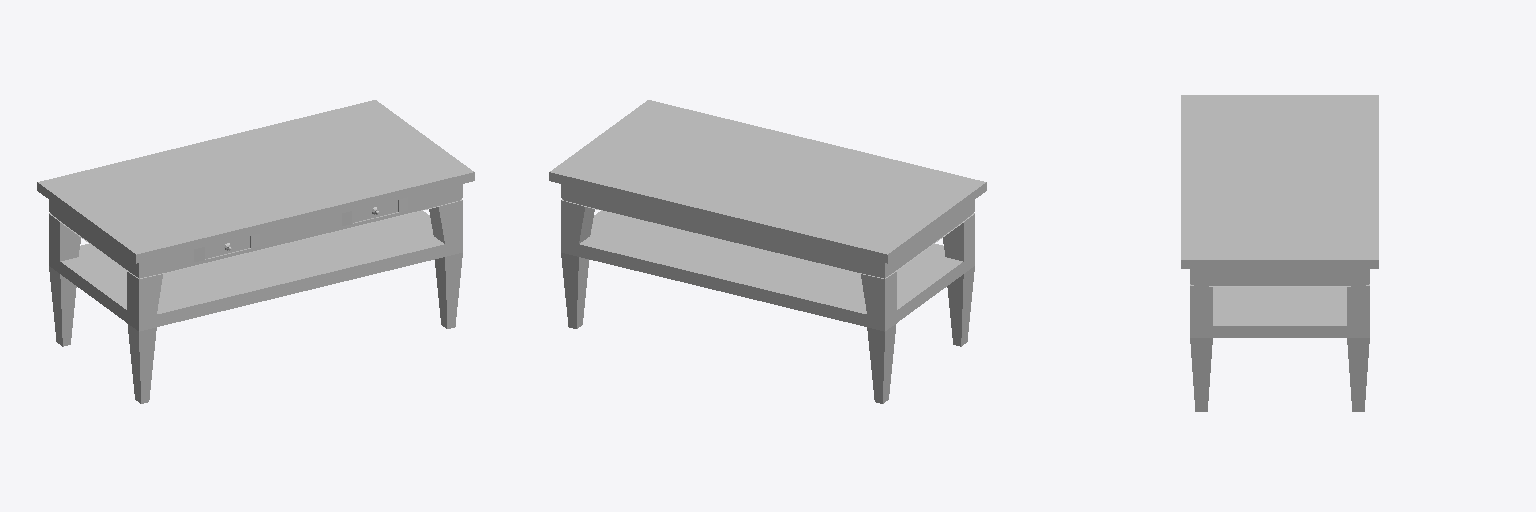
File: CoffeeTable.obj
3 renders of one model, left to right at view 1: azimuth 30°, elevation 25°; view 2: azimuth 150°, elevation 25°; view 3: azimuth 270°, elevation 25°, orthographic.
Parts seen in each view (by area): view 1: CoffeeTable:pCube3; view 2: CoffeeTable:pCube3; view 3: CoffeeTable:pCube3.
Boxes of the visible parts, box(x1,y1,x2,y2) form: CoffeeTable:pCube3: box(37, 100, 474, 403); CoffeeTable:pCube3: box(549, 100, 986, 403); CoffeeTable:pCube3: box(1181, 95, 1378, 411).
Size of the model in its own units: 111 by 49.28 by 56.04.